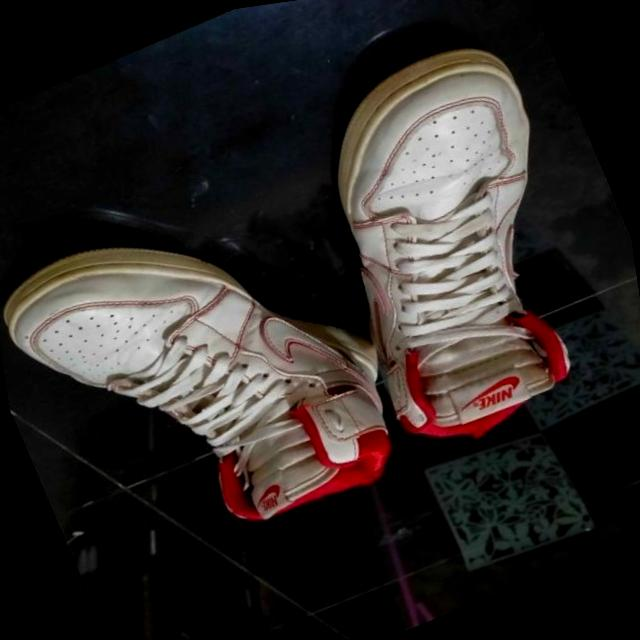nike_fake_jordan: (0, 151, 429, 602), (258, 14, 640, 484)
